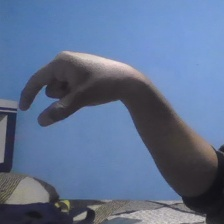Q: (16, 44, 124, 131)
